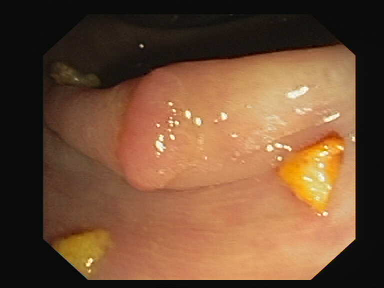polyp: (114, 62, 195, 198), (258, 129, 355, 215), (45, 210, 121, 287), (50, 56, 107, 92)
